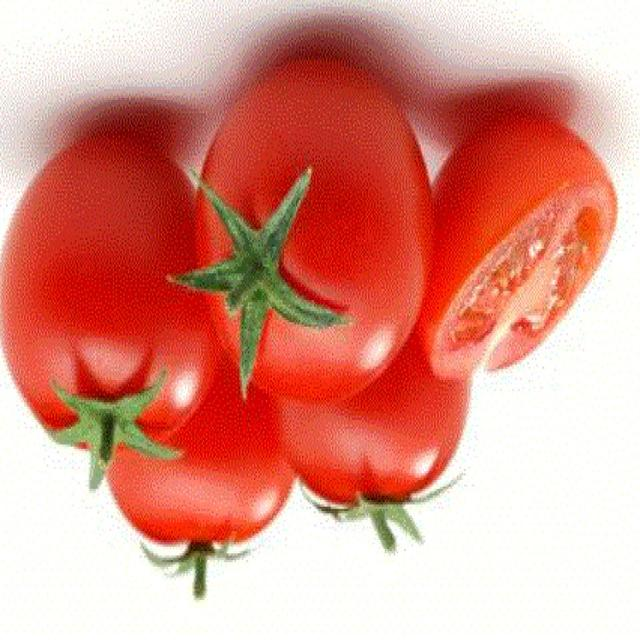Healthy Fruit: (75, 115, 262, 318)
